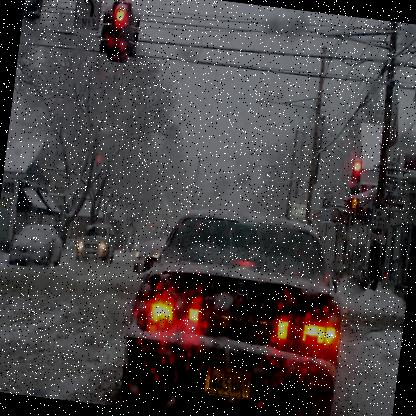Car: (114, 198, 355, 415), (8, 221, 66, 272), (74, 220, 117, 264), (133, 238, 166, 276)
